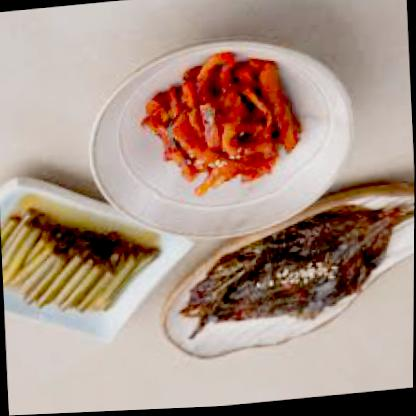pickled sesame leaf: (183, 213, 392, 347)
seasoned bellflower root: (140, 59, 304, 204)
